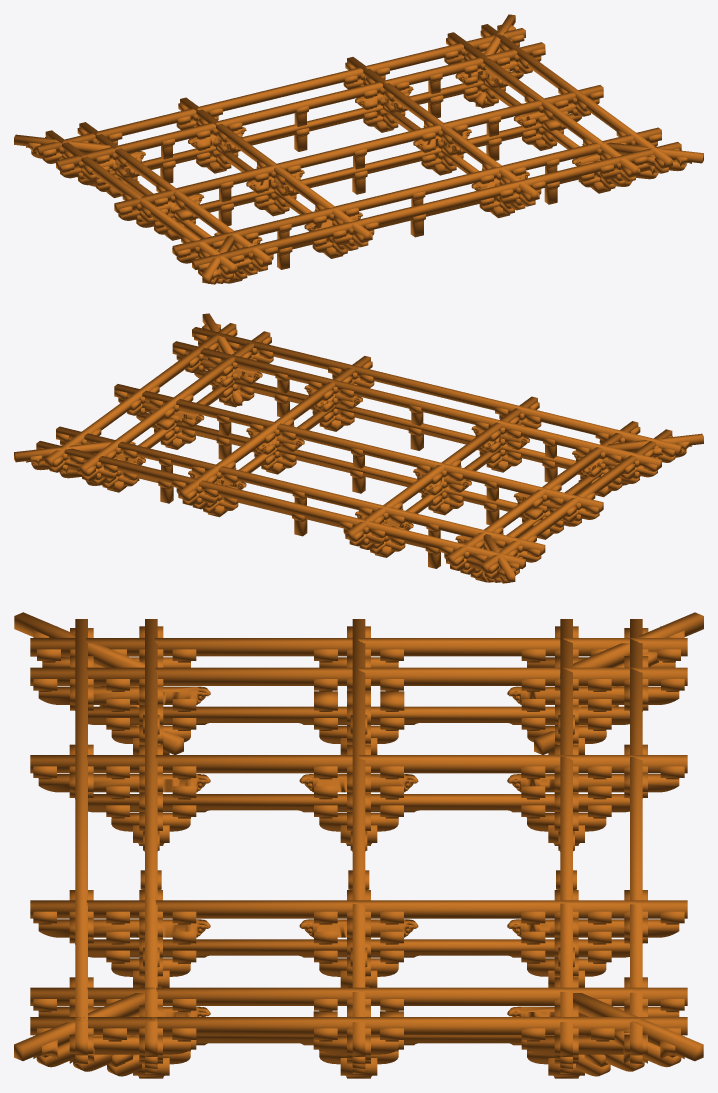
Rendered from building_05.glb.
The picture shows the model from 3 angles, top to bottom: view 1: azimuth 30°, elevation 25°; view 2: azimuth 150°, elevation 25°; view 3: azimuth 270°, elevation 25°; orthographic projection. The views are drawn at different scales.
Visible parts, largest first — view 1: full_building.005; view 2: full_building.005; view 3: full_building.005.
Part boxes in pixels (bbox=[...]): full_building.005: bbox=[14, 14, 703, 284]; full_building.005: bbox=[14, 313, 703, 583]; full_building.005: bbox=[14, 612, 703, 1078].
Bounding box in the file's own units: 3.96 × 0.3524 × 2.65.
